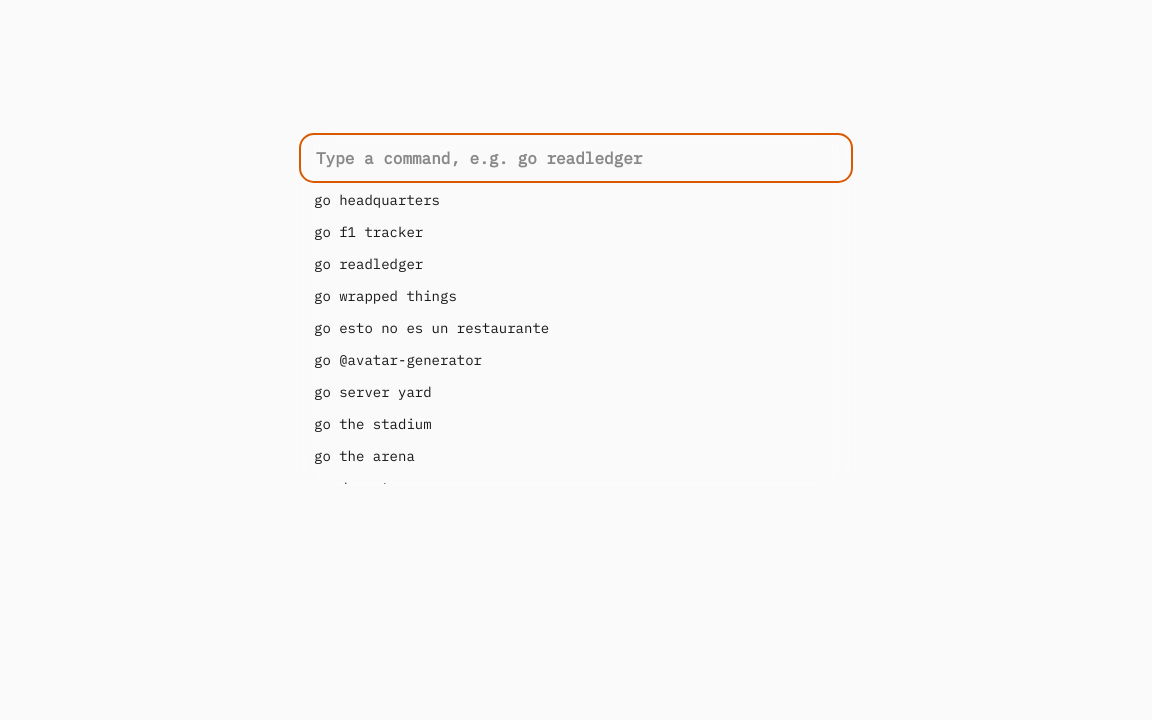
Console › says so when nothing matches
This screenshot has width=1152, height=720.
Type "zzz" into the dropdown at (576, 158), box top-left (304, 138), bottom-right (848, 178)
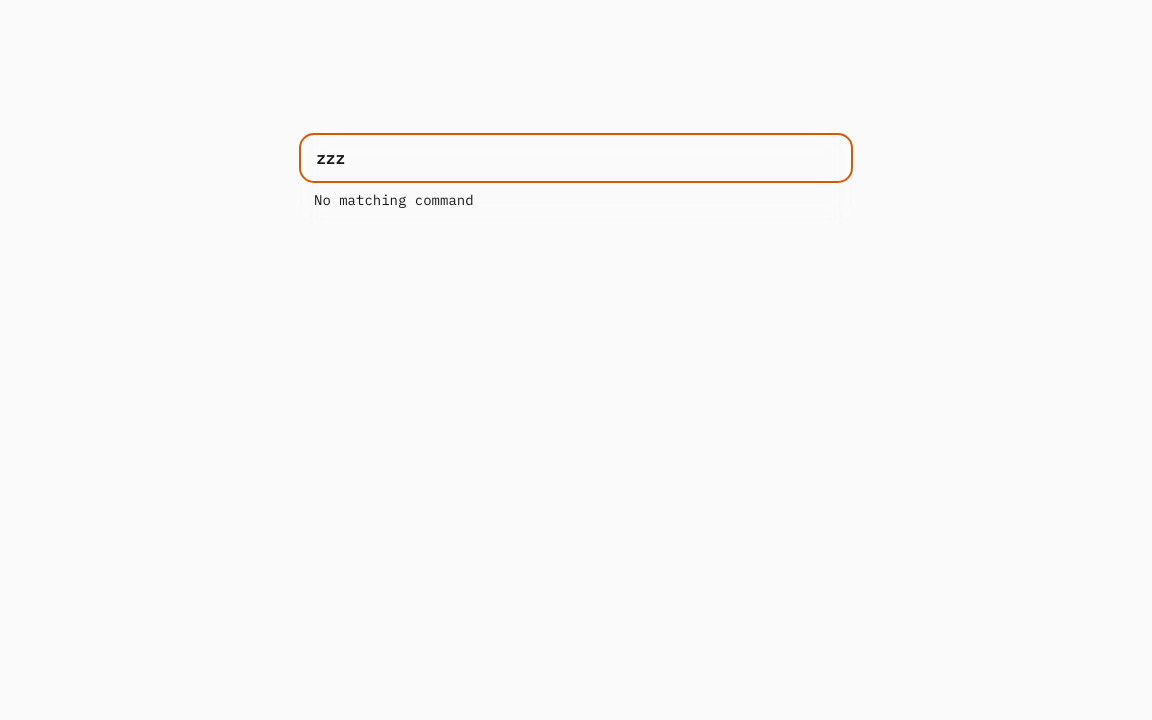
Now the list item "No matching command" is shown, box top-left (314, 191), bottom-right (474, 209)
